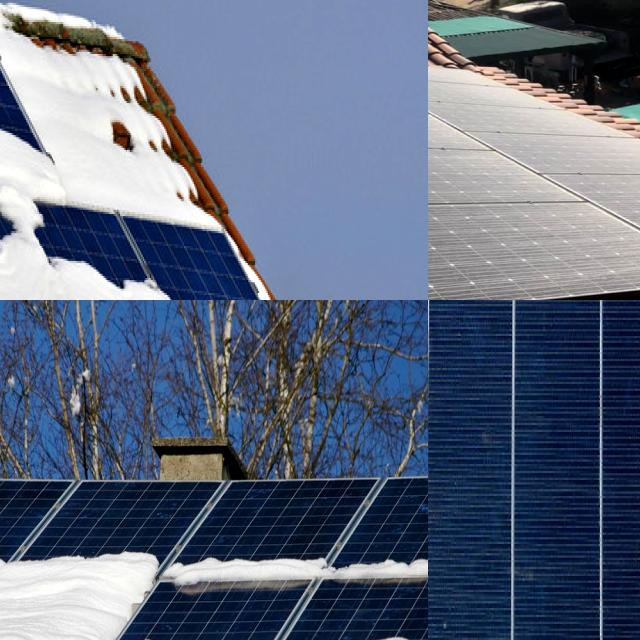dust: (428, 206, 640, 279), (428, 141, 579, 193), (428, 98, 536, 138), (428, 45, 505, 82), (612, 174, 640, 203)
panel: (100, 100, 218, 232), (34, 532, 163, 612), (168, 537, 338, 596), (16, 82, 88, 208), (312, 517, 428, 589), (0, 542, 165, 589), (67, 241, 145, 300), (0, 527, 77, 584), (0, 201, 52, 281), (0, 193, 51, 258), (193, 612, 288, 640), (0, 62, 35, 133), (0, 0, 29, 84), (103, 611, 186, 640), (0, 163, 39, 223), (0, 147, 37, 208), (0, 36, 26, 119), (0, 90, 35, 145), (0, 0, 39, 48), (0, 561, 25, 632), (300, 622, 386, 640), (0, 0, 34, 27), (0, 142, 15, 185)
